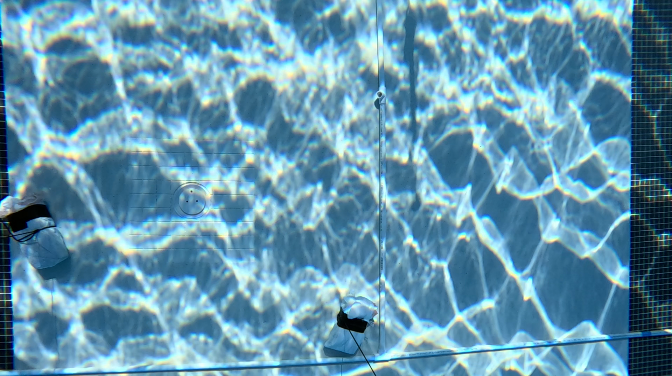sandbag: (0, 196, 71, 268), (326, 297, 375, 352)
